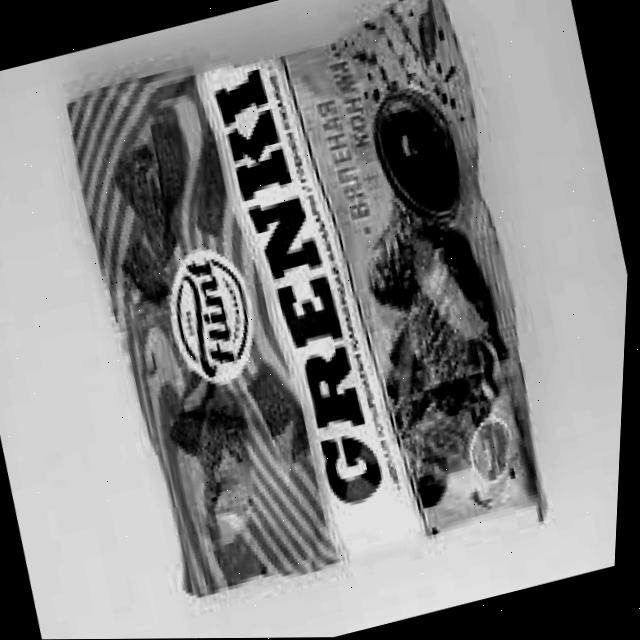flint: (156, 240, 272, 399)
